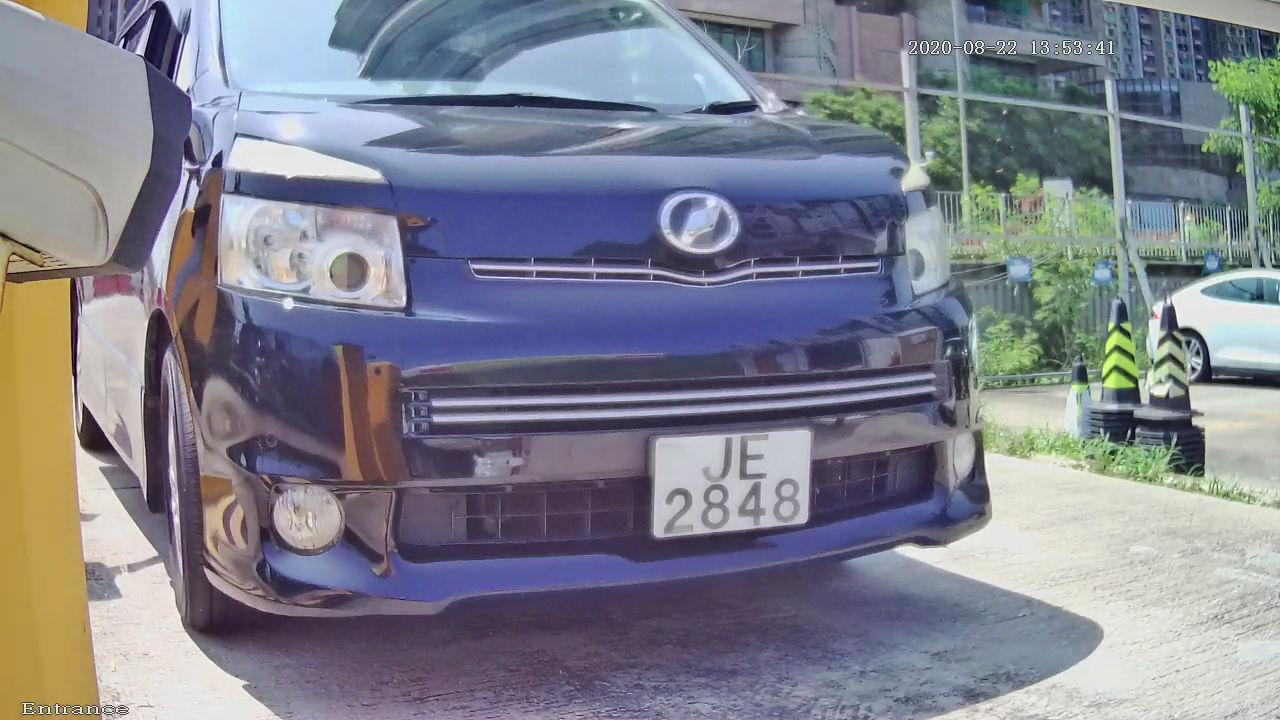Car: (69, 1, 1058, 688)
License Plate: (604, 396, 851, 567)
